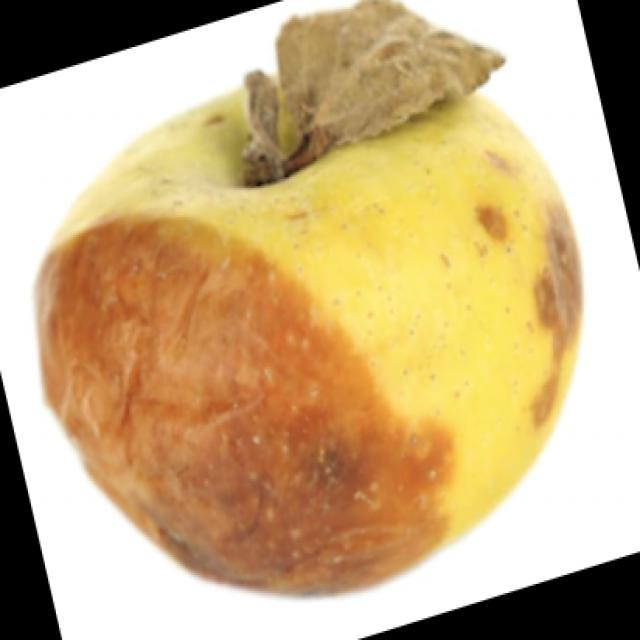Rotten: (25, 43, 573, 580)
